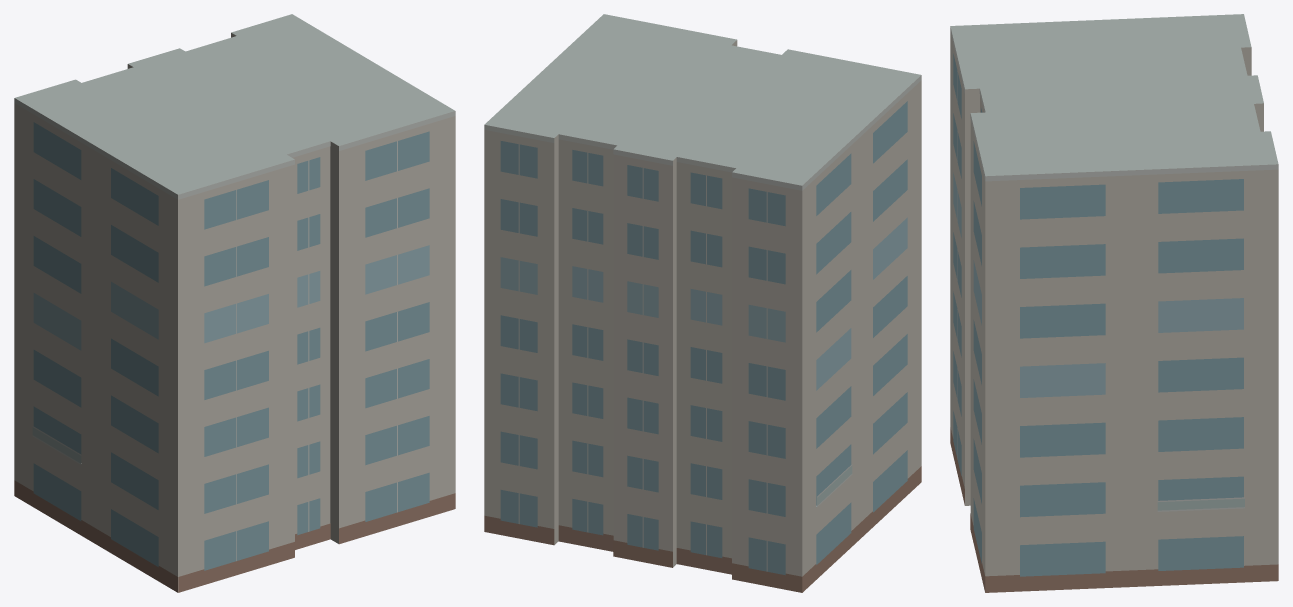
Rendered from survey-upis-32983500.glb.
The picture shows the model from 3 angles, left to right: view 1: azimuth 30°, elevation 25°; view 2: azimuth 150°, elevation 25°; view 3: azimuth 270°, elevation 25°; orthographic projection. The views are drawn at different scales.
Parts seen in each view (by area): view 1: survey-upis-32983500.tmp; view 2: survey-upis-32983500.tmp; view 3: survey-upis-32983500.tmp.
Part boxes in pixels (x1=…): survey-upis-32983500.tmp: x1=14, y1=14, x2=455, y2=592; survey-upis-32983500.tmp: x1=484, y1=14, x2=921, y2=592; survey-upis-32983500.tmp: x1=950, y1=14, x2=1278, y2=592.
Bounding box in the file's own units: 16.29 × 19.5 × 13.93.
